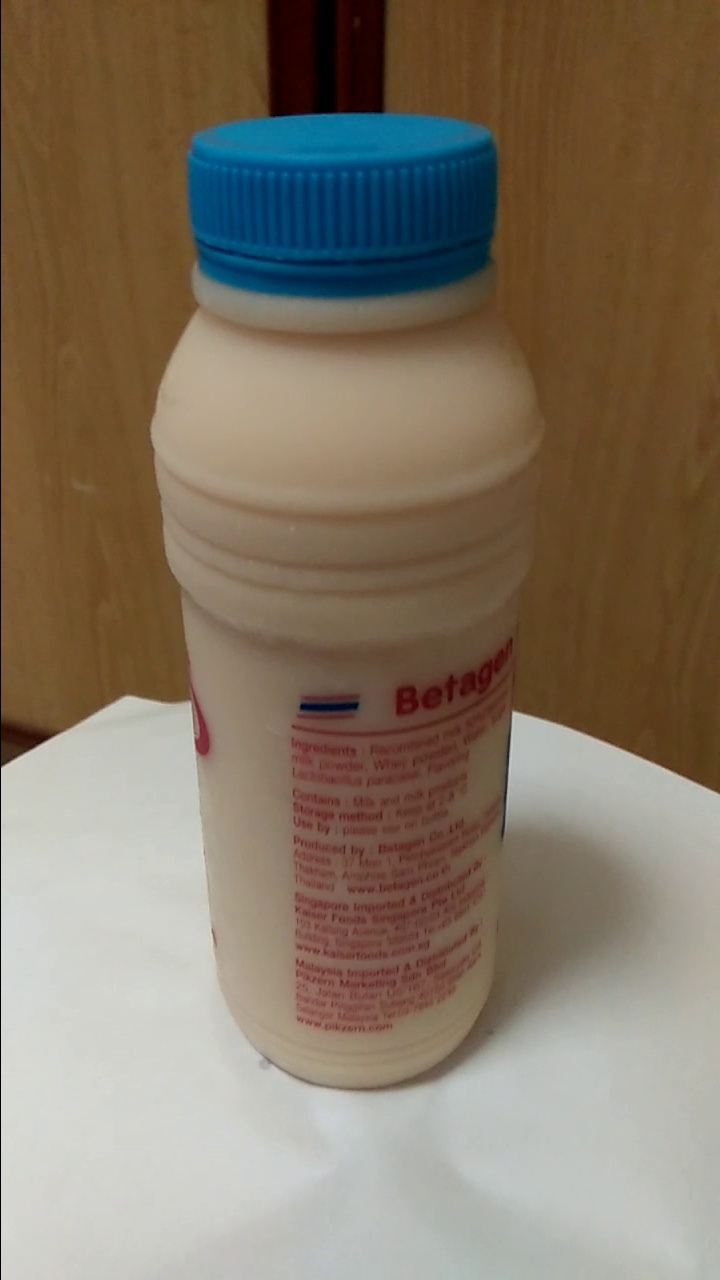mlik2: (176, 129, 523, 1082)
